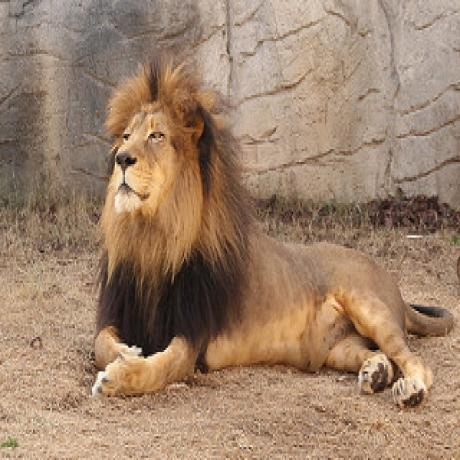Lion: (92, 62, 448, 406)
